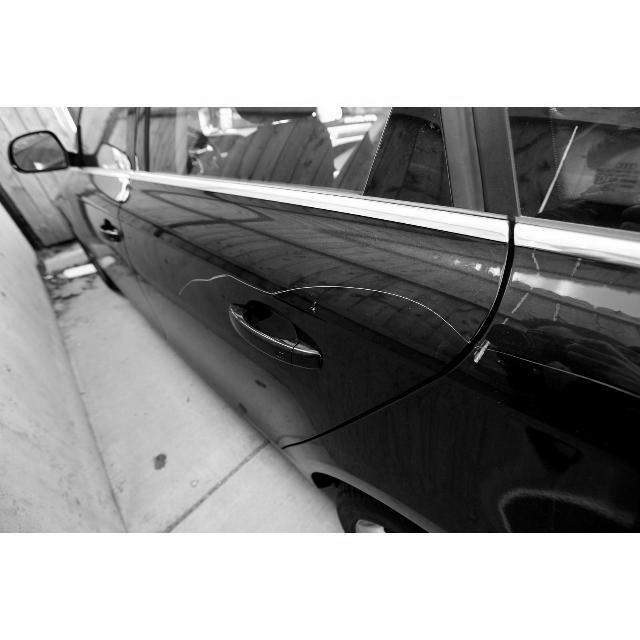doorouter-dent: (139, 214, 509, 432)
